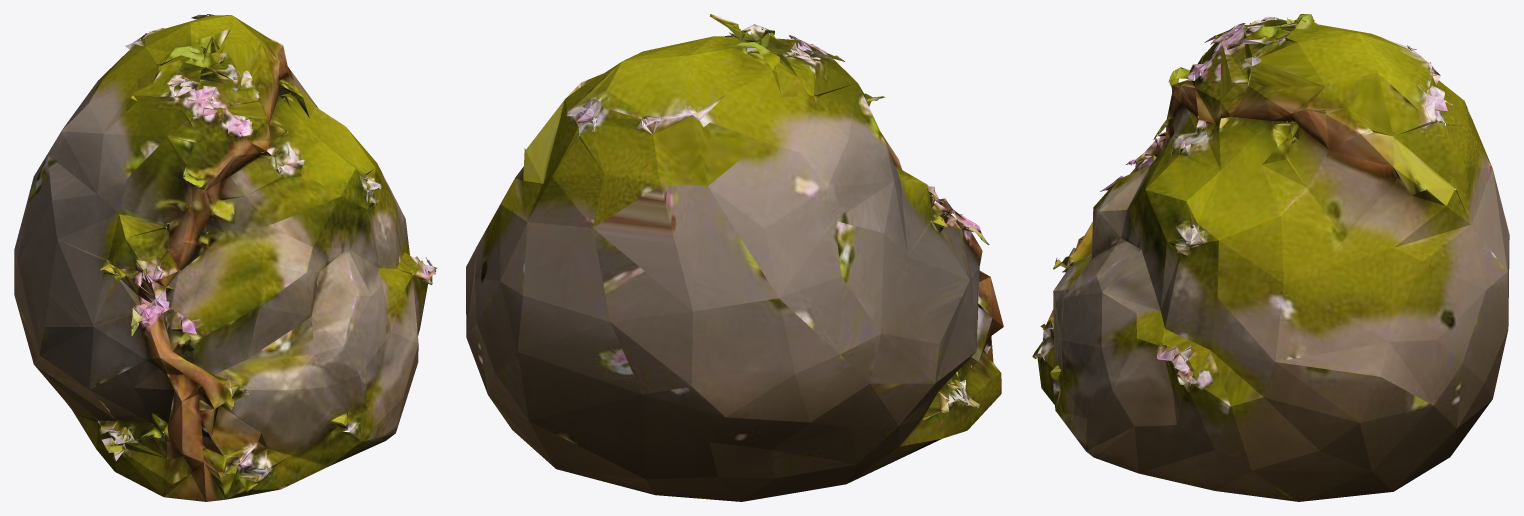
File: fairy_moss_stone_1117.glb
The picture shows the model from 3 angles, left to right: view 1: azimuth 30°, elevation 25°; view 2: azimuth 150°, elevation 25°; view 3: azimuth 270°, elevation 25°; orthographic projection. The views are drawn at different scales.
Parts seen in each view (by area): view 1: geometry_0; view 2: geometry_0; view 3: geometry_0.
Part boxes in pixels (left/top/right/bottom): geometry_0: left=14, top=14, right=436, bottom=501; geometry_0: left=466, top=14, right=1003, bottom=501; geometry_0: left=1032, top=14, right=1509, bottom=501.
Size of the model in its own units: 1.07 by 1 by 1.08.
1 material, 1 textured.
